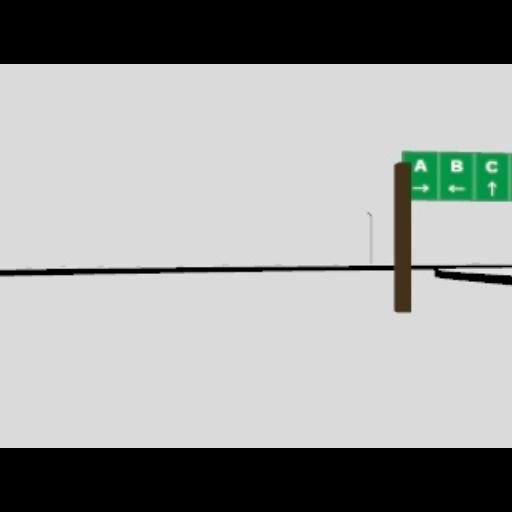A: (413, 158, 427, 172)
B: (450, 158, 462, 172)
C: (484, 160, 498, 172)
Left: (446, 184, 466, 192)
Right: (412, 184, 430, 192)
Straight: (488, 181, 496, 195)
